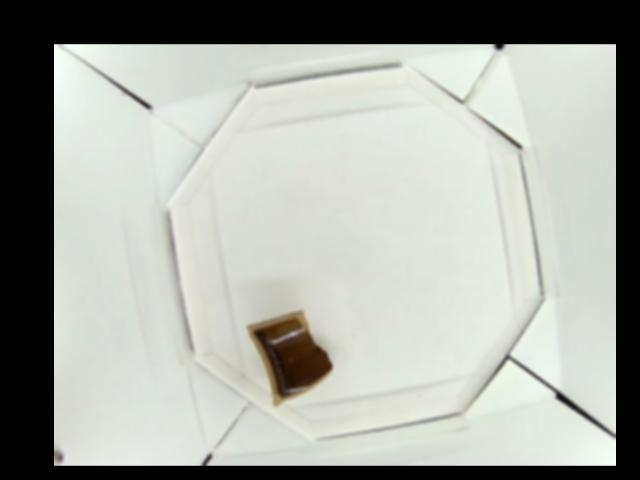China: (244, 307, 333, 402)
